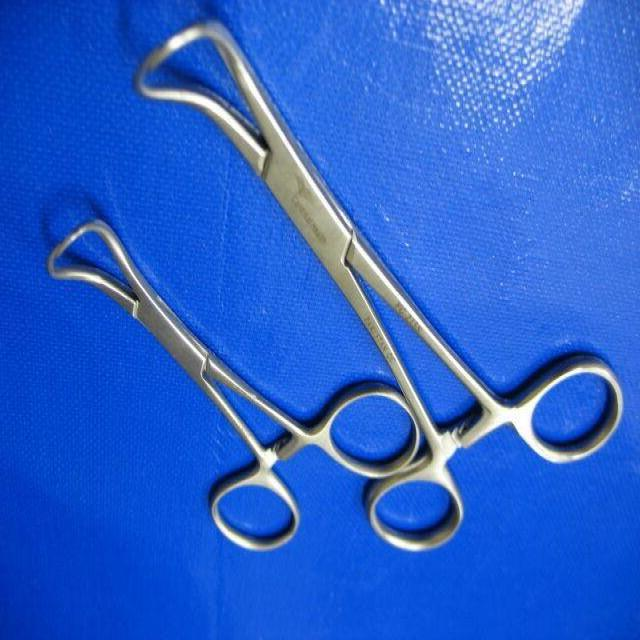Towel_clip: (131, 8, 628, 559), (44, 210, 423, 558)
